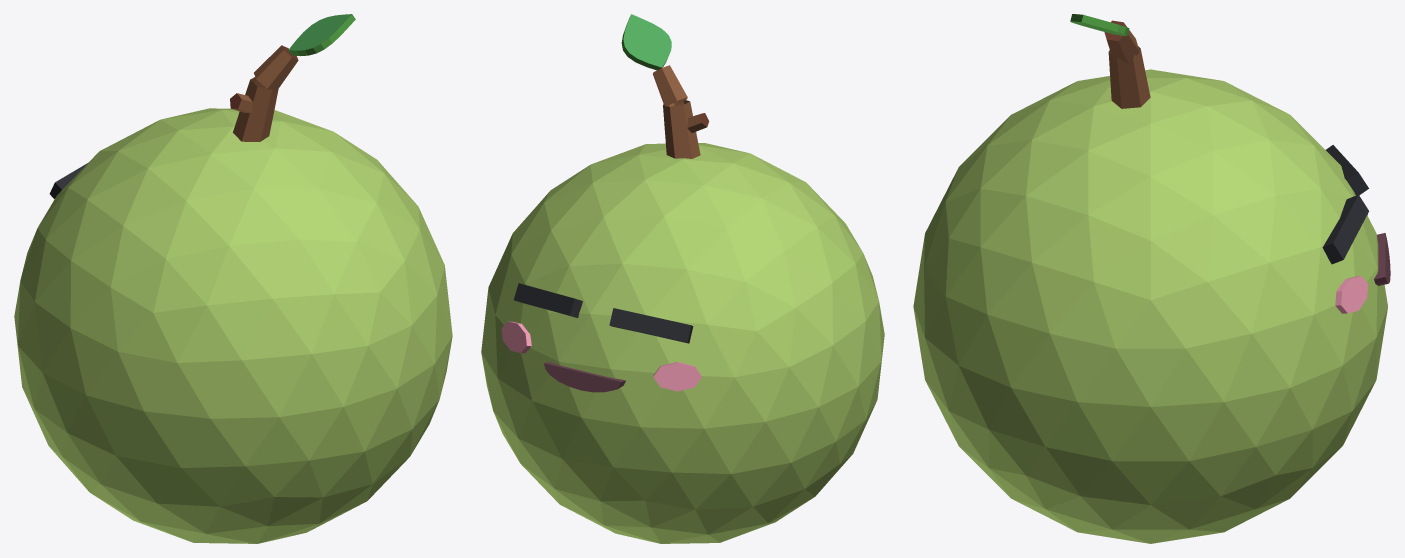
File: CH_Dalcik_T2_Blink.fbx
The picture shows the model from 3 angles, left to right: view 1: azimuth 30°, elevation 25°; view 2: azimuth 150°, elevation 25°; view 3: azimuth 270°, elevation 25°; orthographic projection. The views are drawn at different scales.
Parts seen in each view (by area): view 1: CH_Dalcik_T2_Blink; view 2: CH_Dalcik_T2_Blink; view 3: CH_Dalcik_T2_Blink.
Boxes of the visible parts, x1,y1,x2,y2 form: CH_Dalcik_T2_Blink: [14, 14, 452, 543]; CH_Dalcik_T2_Blink: [481, 14, 884, 543]; CH_Dalcik_T2_Blink: [913, 14, 1390, 543].
Bounding box in the file's own units: 1 × 1.29 × 1.01.
